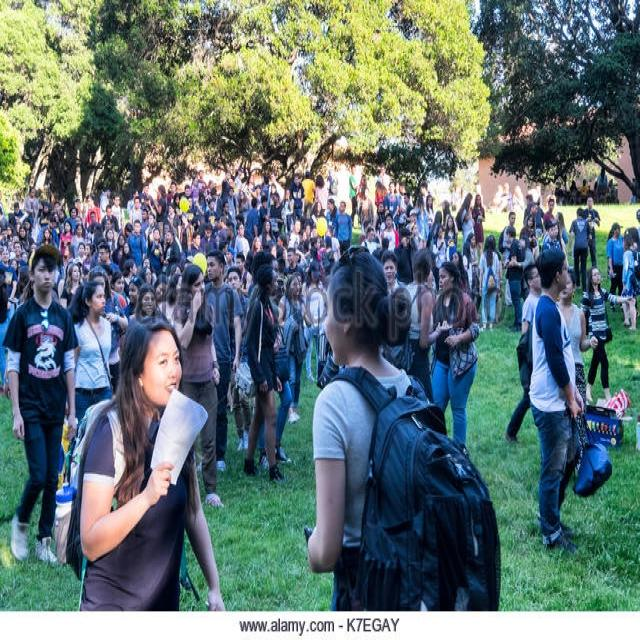body: (298, 247, 506, 638), (71, 311, 232, 638), (524, 245, 615, 557), (1, 239, 81, 570), (171, 262, 226, 508), (196, 249, 246, 474), (240, 261, 289, 484), (428, 258, 483, 450), (557, 268, 600, 474), (401, 246, 454, 407), (66, 278, 114, 450), (579, 265, 635, 404), (504, 261, 543, 445), (85, 265, 130, 395), (226, 266, 255, 454), (276, 272, 310, 425), (379, 248, 413, 374), (300, 259, 328, 384), (244, 249, 280, 331), (391, 225, 418, 332), (475, 234, 502, 332), (502, 224, 526, 332), (125, 280, 173, 330), (567, 205, 593, 296), (402, 208, 427, 300), (619, 232, 640, 332), (509, 234, 537, 304), (621, 226, 639, 322), (579, 195, 601, 273), (605, 220, 624, 310), (463, 229, 482, 318), (301, 222, 319, 299), (426, 209, 444, 284), (146, 263, 184, 298), (308, 226, 325, 302), (159, 229, 182, 285), (404, 221, 425, 282), (0, 245, 19, 312), (146, 226, 166, 288), (0, 286, 11, 396), (332, 199, 353, 256), (431, 224, 448, 294), (150, 216, 168, 282), (126, 219, 147, 275), (0, 189, 18, 253), (461, 242, 480, 302), (522, 192, 546, 239), (222, 220, 239, 285), (497, 210, 517, 264), (449, 249, 471, 298), (125, 222, 144, 276), (300, 169, 316, 233), (248, 220, 263, 288), (383, 180, 402, 232), (178, 183, 195, 241), (471, 193, 486, 258), (96, 242, 123, 278), (152, 203, 169, 259), (152, 183, 168, 242), (347, 162, 361, 228), (378, 212, 401, 252), (120, 278, 143, 318), (231, 168, 246, 229), (282, 245, 306, 283), (289, 172, 306, 225), (244, 196, 260, 251), (278, 186, 293, 244), (373, 179, 389, 233), (234, 212, 255, 252), (232, 220, 251, 264), (268, 193, 286, 239), (234, 252, 252, 298), (58, 219, 76, 264), (454, 192, 474, 232), (354, 172, 369, 225), (541, 220, 563, 256), (313, 172, 330, 218), (22, 185, 40, 228), (443, 215, 459, 263), (325, 196, 341, 244), (357, 184, 376, 224), (397, 183, 413, 230), (553, 222, 570, 266), (122, 256, 139, 300), (110, 271, 132, 305), (226, 186, 240, 239), (245, 235, 264, 273), (519, 213, 538, 250), (199, 220, 219, 255), (360, 225, 383, 255), (109, 192, 126, 232), (551, 210, 570, 245), (16, 223, 36, 255), (257, 218, 277, 250), (126, 186, 144, 221), (325, 196, 340, 238), (85, 193, 102, 230), (100, 203, 121, 232), (523, 201, 539, 239), (489, 183, 508, 215), (204, 200, 220, 237), (62, 205, 83, 233), (70, 222, 86, 258), (449, 180, 467, 212), (80, 242, 94, 283), (49, 190, 60, 242), (308, 199, 327, 229), (37, 201, 57, 229), (423, 192, 436, 235), (595, 162, 608, 205), (128, 196, 145, 228), (511, 183, 528, 215), (193, 167, 208, 202), (22, 216, 39, 246), (258, 175, 273, 209), (188, 230, 206, 258), (44, 215, 60, 246), (266, 180, 281, 212), (500, 179, 514, 213), (438, 186, 454, 215), (110, 233, 127, 260), (402, 190, 415, 225), (276, 233, 289, 268), (102, 216, 120, 241), (287, 218, 302, 248), (257, 194, 271, 226), (440, 199, 453, 233), (326, 165, 339, 199), (8, 200, 24, 227), (542, 179, 558, 206), (167, 179, 181, 209), (202, 180, 216, 210), (152, 275, 168, 301), (189, 175, 201, 209), (104, 226, 118, 255), (540, 218, 555, 245), (554, 180, 569, 207), (220, 170, 232, 203), (173, 205, 190, 228), (542, 198, 557, 224), (470, 183, 485, 209), (165, 203, 179, 230), (86, 210, 101, 235), (219, 200, 234, 225), (526, 180, 541, 205), (586, 175, 599, 203), (71, 206, 83, 236), (139, 208, 151, 238), (245, 173, 258, 199), (217, 215, 231, 239), (141, 182, 155, 205), (50, 199, 63, 223), (568, 179, 580, 205), (218, 240, 230, 265), (606, 176, 616, 205), (419, 182, 431, 206), (222, 248, 236, 268), (172, 190, 183, 215), (40, 228, 55, 246), (579, 178, 589, 205), (236, 189, 246, 216), (375, 200, 384, 230), (5, 252, 17, 273), (634, 208, 640, 249), (628, 176, 637, 203), (77, 240, 87, 264), (253, 183, 262, 209), (293, 248, 303, 265), (56, 208, 67, 223), (373, 168, 382, 186), (460, 187, 466, 212), (592, 179, 598, 203), (5, 225, 13, 240), (393, 180, 400, 195), (300, 230, 307, 243), (587, 183, 593, 198)
